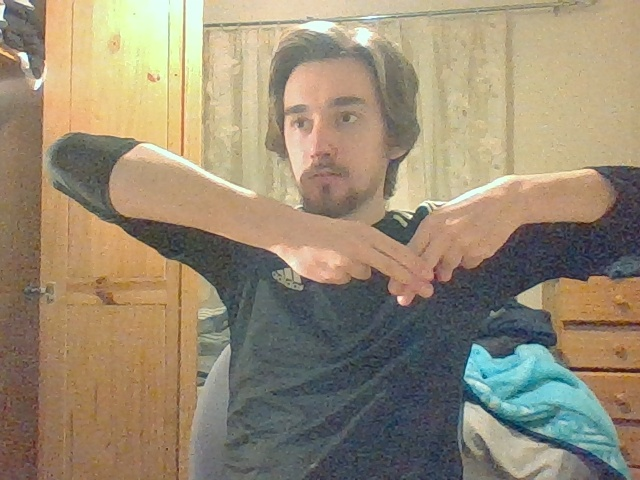father: (364, 219, 459, 305)
